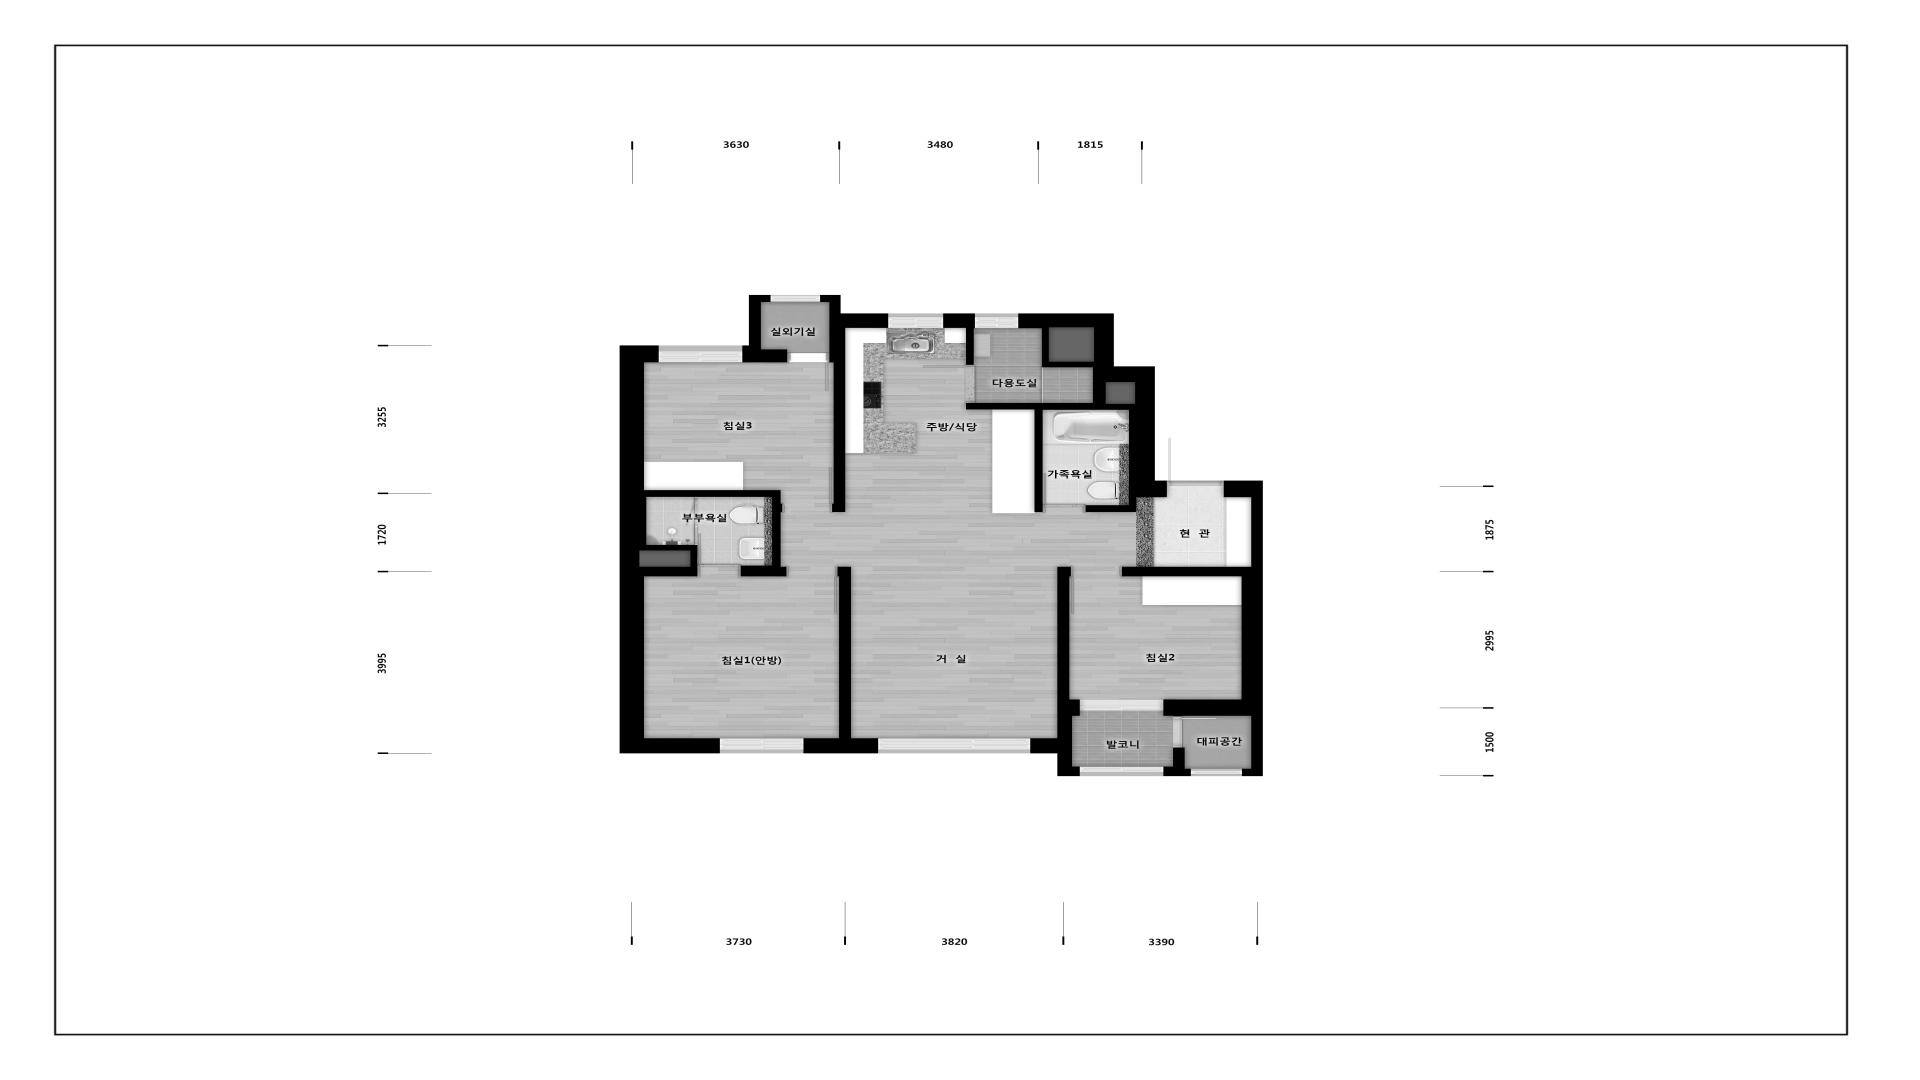door: (1167, 438, 1224, 485), (1071, 566, 1121, 615), (787, 566, 837, 615), (782, 467, 832, 513), (923, 365, 975, 404), (698, 534, 741, 578), (1043, 473, 1085, 513), (787, 353, 829, 392), (1172, 716, 1217, 748), (686, 497, 698, 527)
wall: (620, 345, 720, 753), (1018, 314, 1167, 497), (1224, 480, 1263, 777), (1058, 567, 1080, 738), (829, 328, 845, 512), (820, 295, 889, 328), (837, 567, 851, 738), (1042, 328, 1093, 368), (1030, 738, 1080, 777), (742, 295, 770, 363), (645, 545, 698, 576), (1163, 699, 1241, 716), (1121, 567, 1241, 576), (803, 738, 878, 753), (965, 404, 1129, 410), (1034, 410, 1043, 512), (645, 491, 781, 497), (1085, 497, 1137, 512), (773, 497, 782, 566), (741, 566, 787, 576), (943, 314, 975, 328), (761, 349, 787, 363), (965, 328, 973, 365), (1163, 766, 1191, 777), (1093, 382, 1106, 402), (1172, 748, 1184, 766), (695, 527, 698, 545)
window: (878, 738, 1030, 753), (659, 345, 742, 363), (720, 738, 803, 753), (1080, 699, 1163, 711), (1080, 766, 1163, 777), (889, 314, 943, 328), (975, 314, 1018, 328), (1191, 769, 1242, 777), (770, 295, 820, 302)
